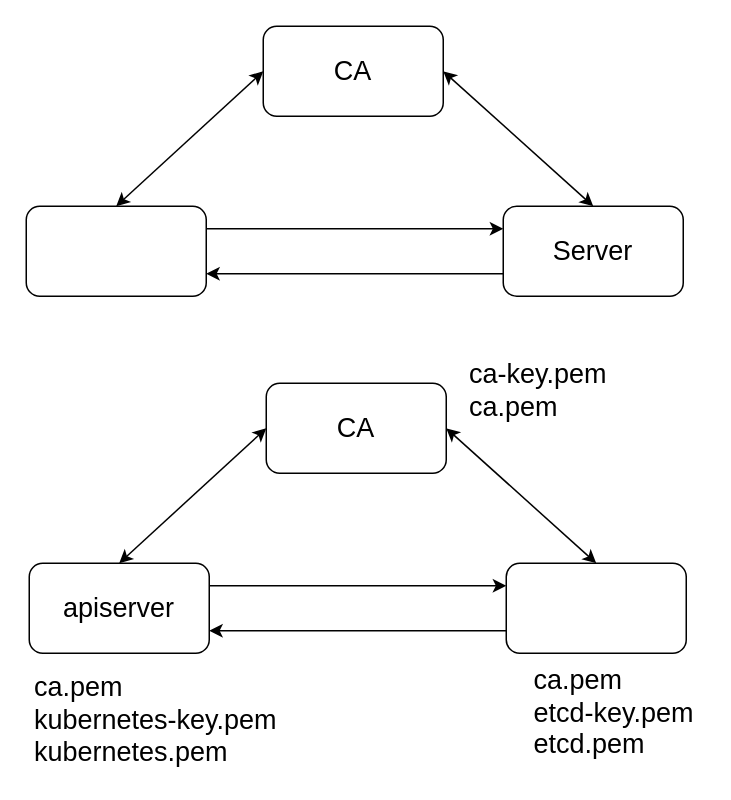
Image size: 731x800. Some labels were removed from this diagram. The shapes that lost their labels are listed below. From the top down, each one's centre as x and y in pixels, then its label:
[115,250]: Client
[595,607]: etcd
